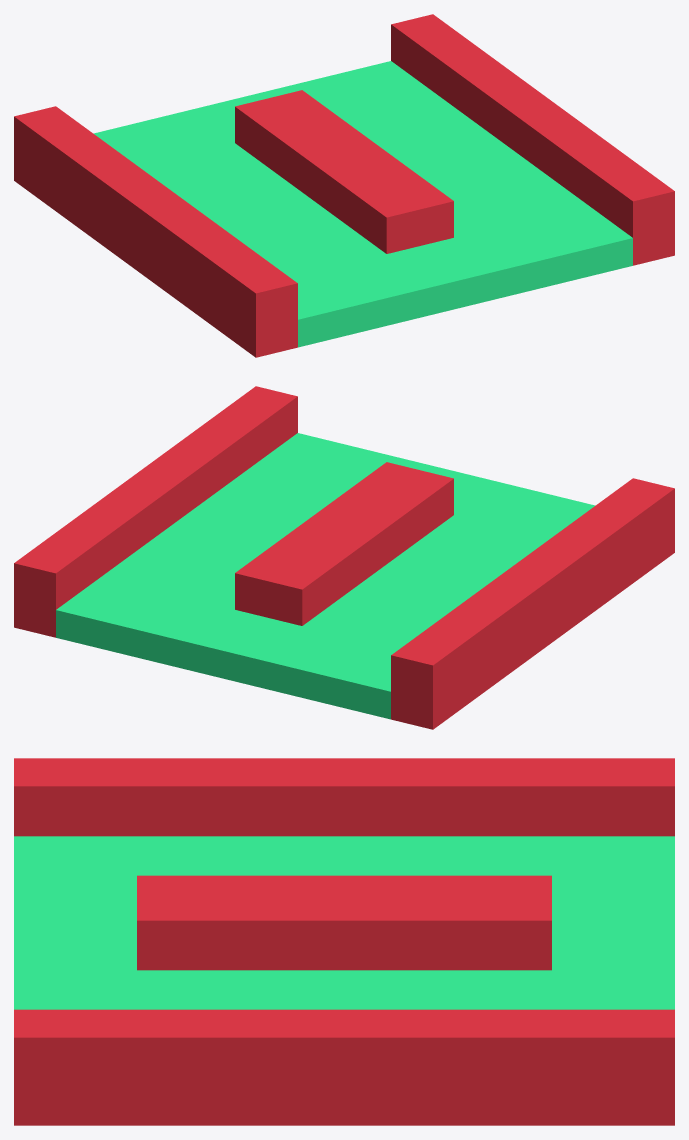
The model's file is obstacleBlock.fbx.
The picture shows the model from 3 angles, top to bottom: view 1: azimuth 30°, elevation 25°; view 2: azimuth 150°, elevation 25°; view 3: azimuth 270°, elevation 25°; orthographic projection. The views are drawn at different scales.
Visible parts, largest first — view 1: obstacleBlock; view 2: obstacleBlock; view 3: obstacleBlock.
Boxes of the visible parts, <box> form: obstacleBlock: <box>14,14,674,357</box>; obstacleBlock: <box>14,386,674,729</box>; obstacleBlock: <box>14,758,674,1125</box>.
Size of the model in its own units: 10 by 1.47 by 10.
